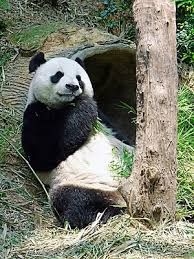panda: (8, 37, 148, 230)
